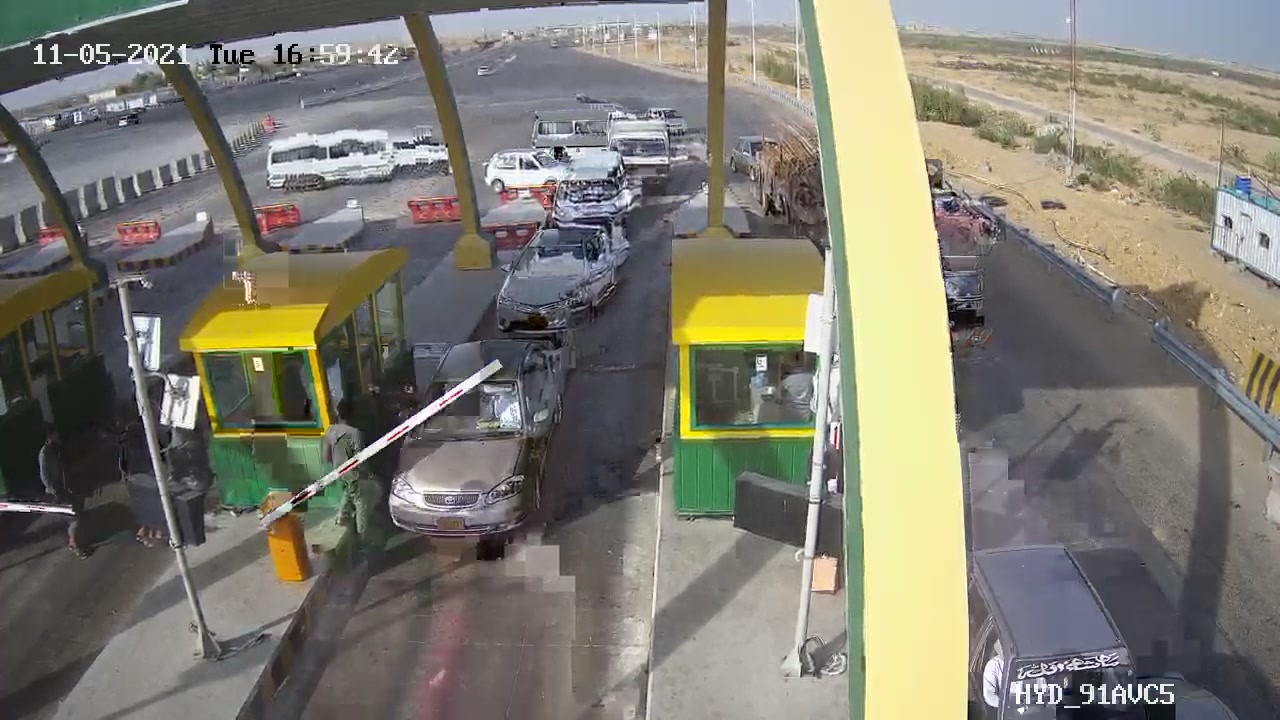F1: (368, 324, 581, 557)
